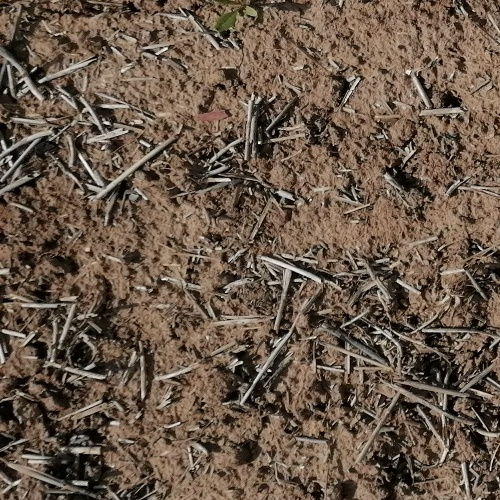beet: (216, 0, 262, 32)
